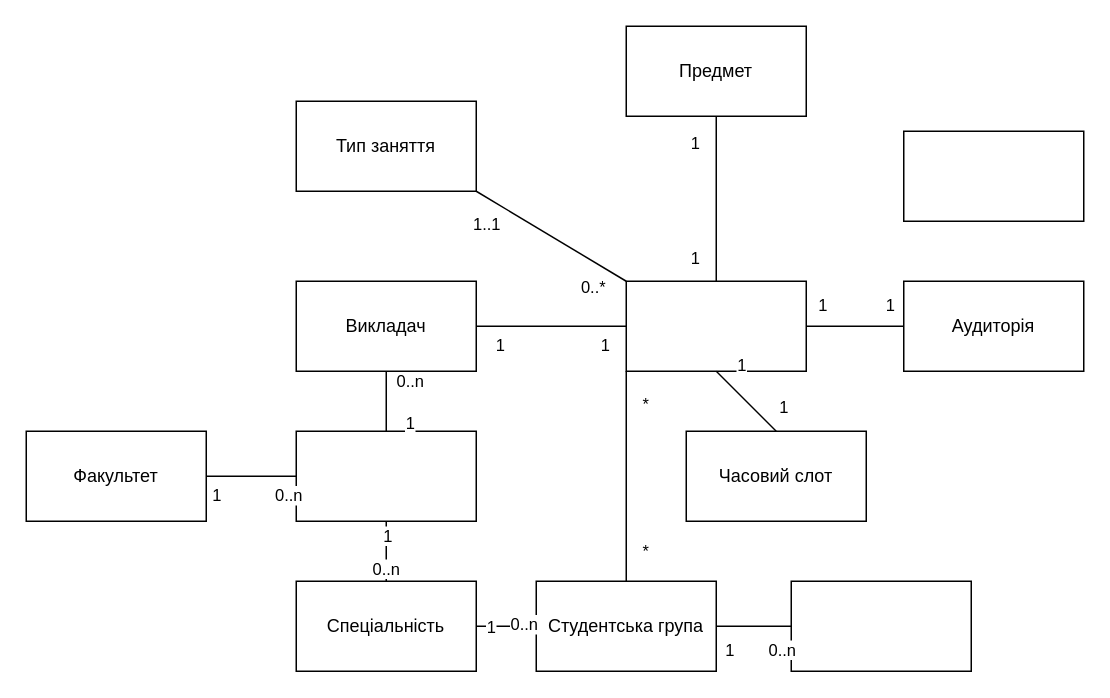
Some shapes in this 1110 by 698 pixel diagram are drawn without their labels. Here are the shapes that lost their labels. From the top down, the centre of each, then its label:
At [993,175]: "Користувачі".
At [715,325]: "Розклад".
At [385,475]: "Кафедра".
At [880,625]: "Повідомлення".
